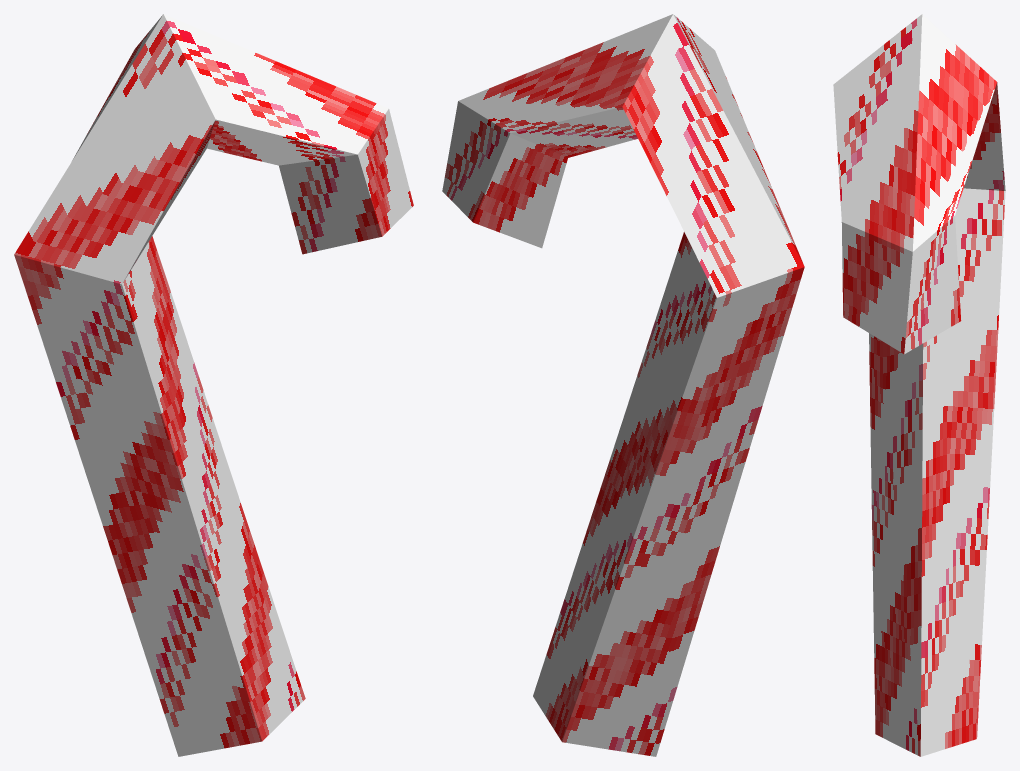
File: SM_CandyCane.fbx
3 renders of one model, left to right at view 1: azimuth 30°, elevation 25°; view 2: azimuth 150°, elevation 25°; view 3: azimuth 270°, elevation 25°, orthographic. The views are drawn at different scales.
Parts seen in each view (by area): view 1: SM_CandyCane; view 2: SM_CandyCane; view 3: SM_CandyCane.
Part boxes in pixels (x1,y1,x2,y2): SM_CandyCane: (14,14,413,756); SM_CandyCane: (442,14,804,756); SM_CandyCane: (833,14,1005,756).
Bounding box in the file's own units: 82.28 × 154 × 34.1.
